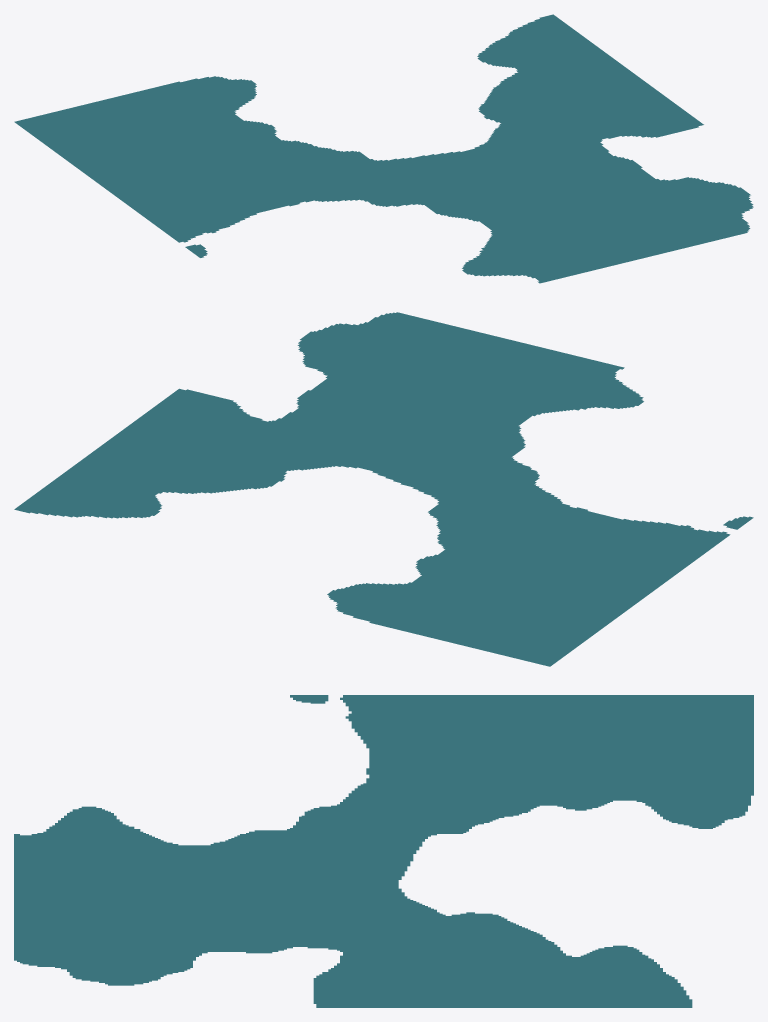
Rendered from eau-reference-0-1.glb.
3 renders of one model, top to bottom at view 1: azimuth 30°, elevation 25°; view 2: azimuth 150°, elevation 25°; view 3: azimuth 270°, elevation 25°, orthographic. The views are drawn at different scales.
Visible parts, largest first — view 1: eau-reference-0-1; view 2: eau-reference-0-1; view 3: eau-reference-0-1.
Part boxes in pixels (bbox=[...]): eau-reference-0-1: bbox=[14, 14, 753, 283]; eau-reference-0-1: bbox=[14, 312, 753, 666]; eau-reference-0-1: bbox=[14, 695, 753, 1007].
Size of the model in its own units: 1008 by 0 by 1008.
